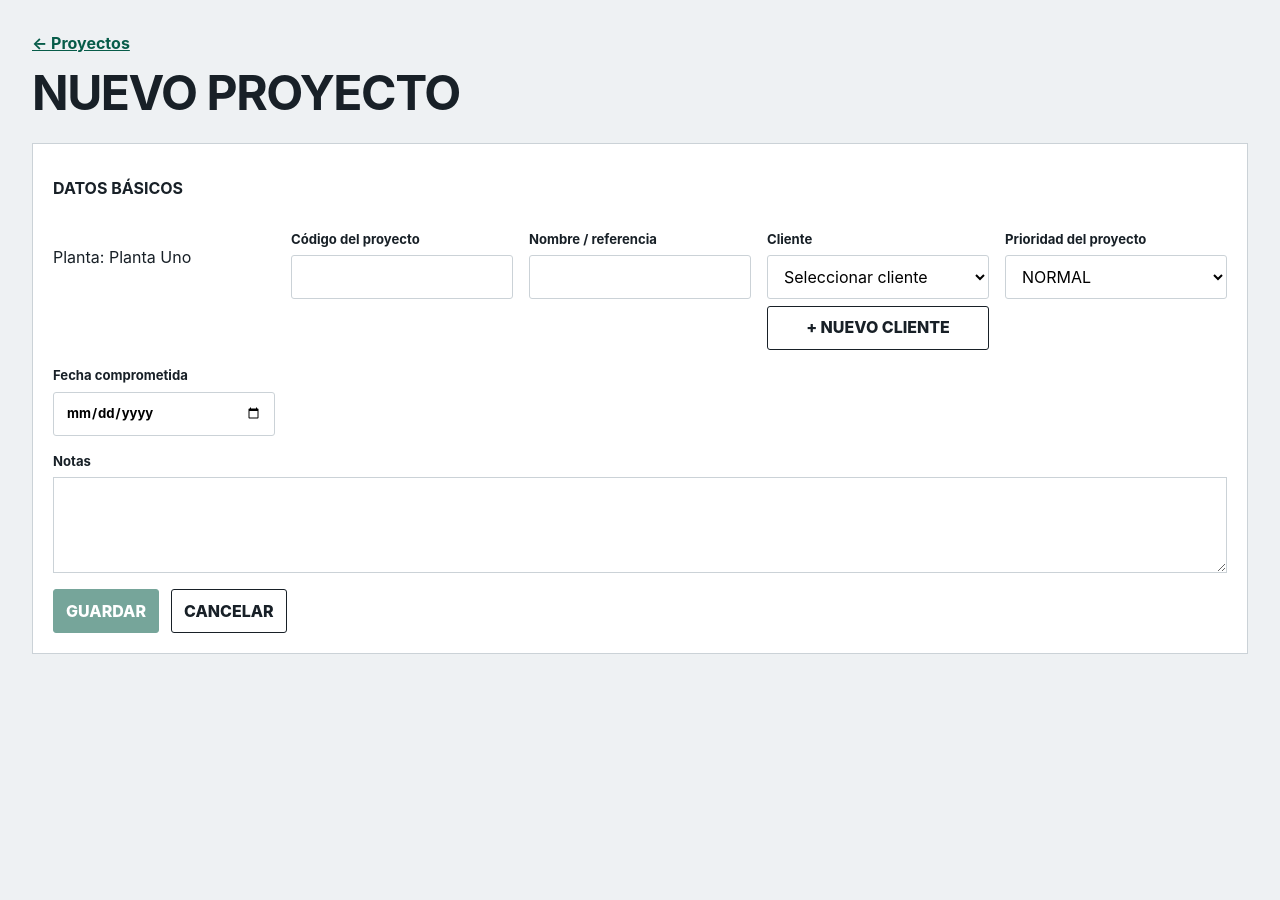
Test: error backend conserva alta e inputs
This screenshot has width=1280, height=900.
Type "P-NEW" into the field labelled "Código del proyecto" at (402, 277), box [291, 255, 513, 299]
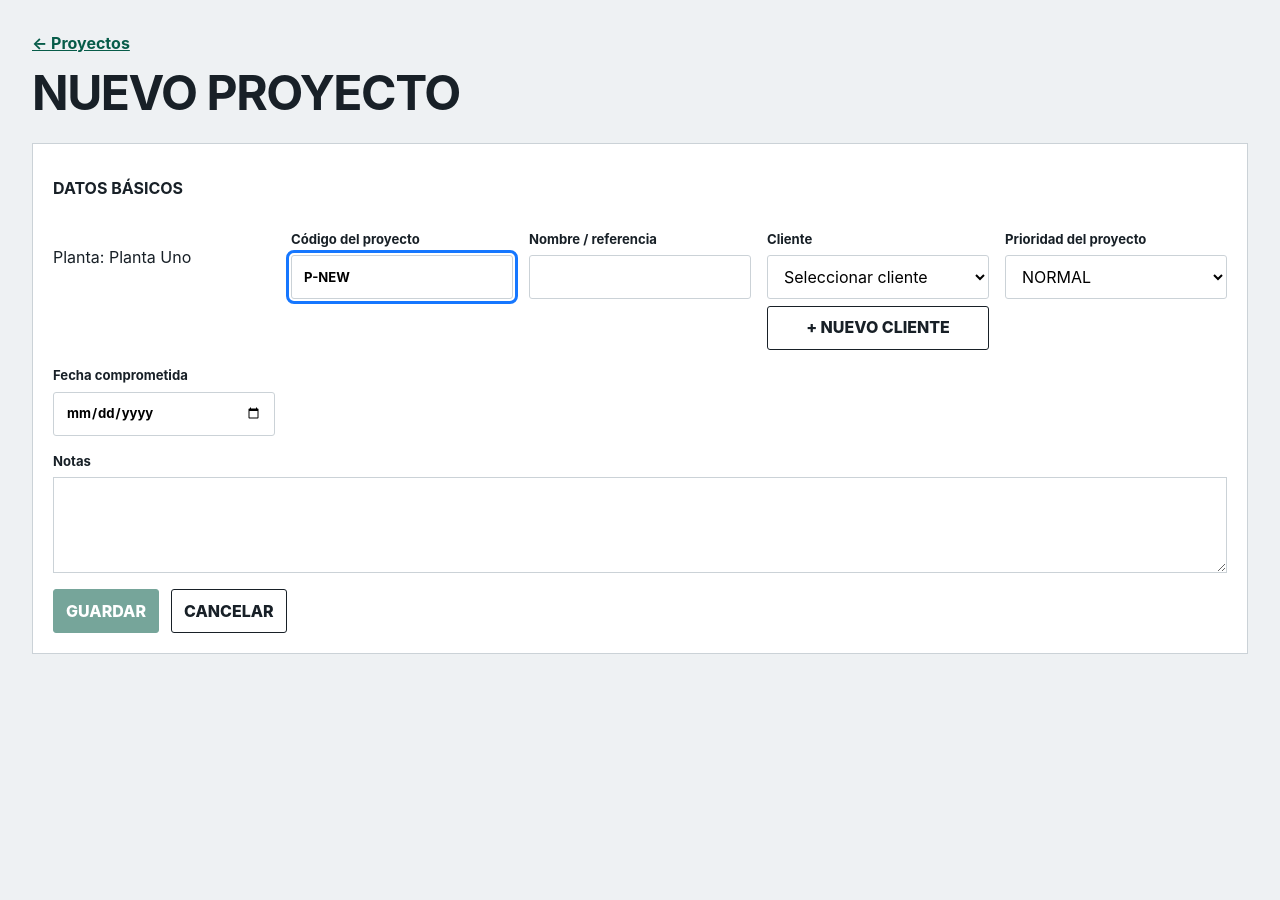
Type "Proyecto Nuevo" into the field labelled "Nombre / referencia" at (640, 277), box [529, 255, 751, 299]
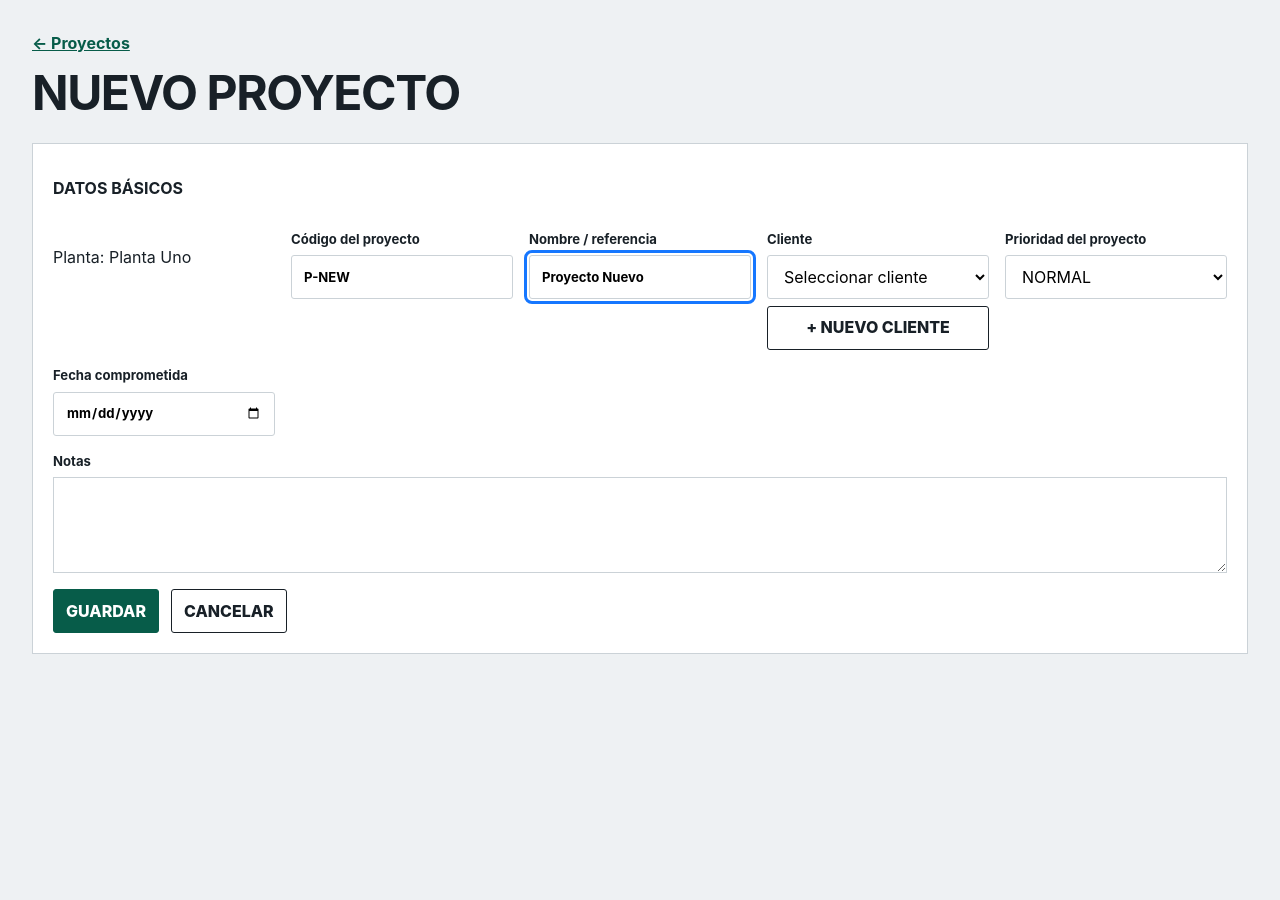
Select "Cliente Uno" in the dropdown labelled "Cliente" at (878, 277), box [767, 255, 989, 299]
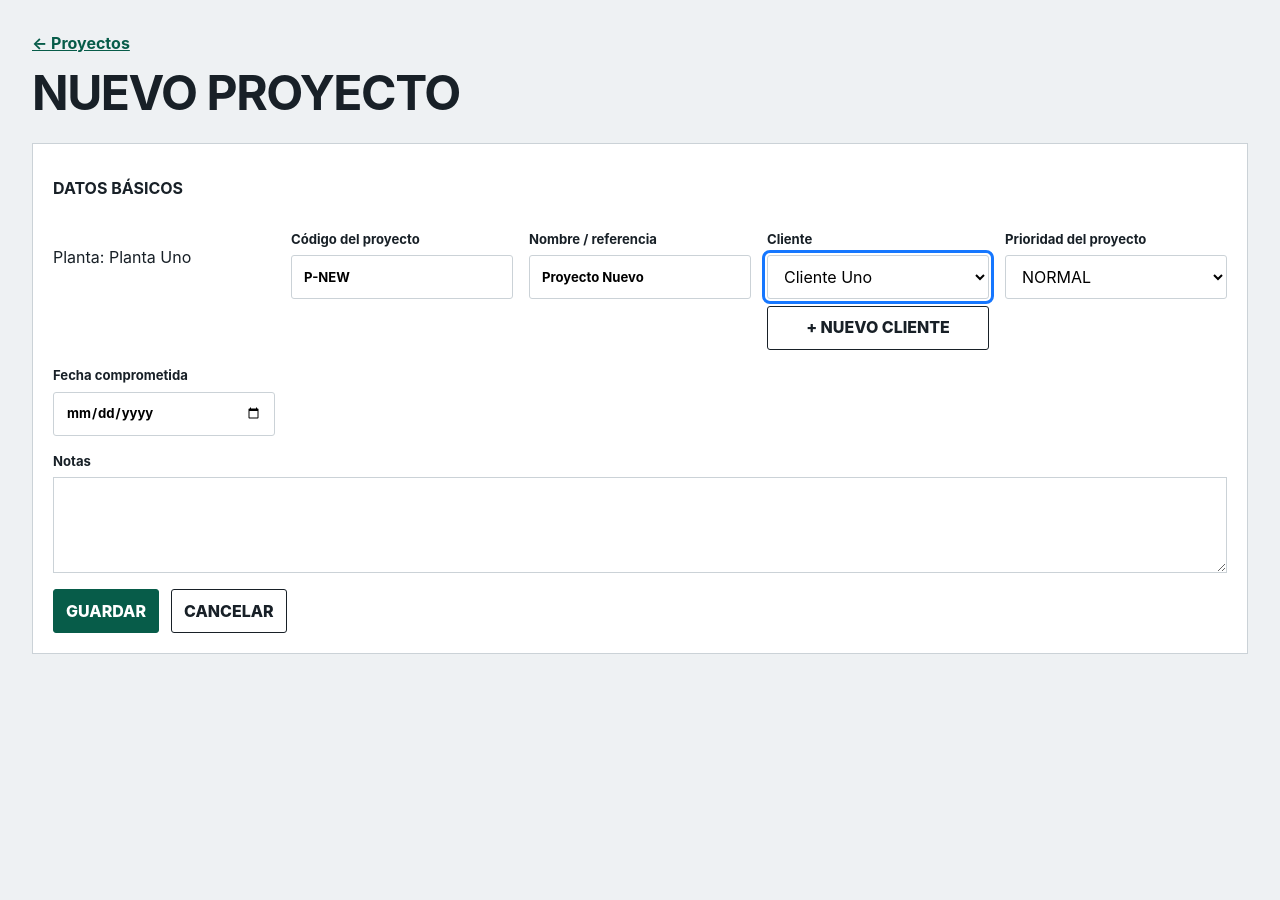
Type "2026-12-20" into the date field labelled "Fecha comprometida" at (164, 414), box [53, 392, 275, 436]
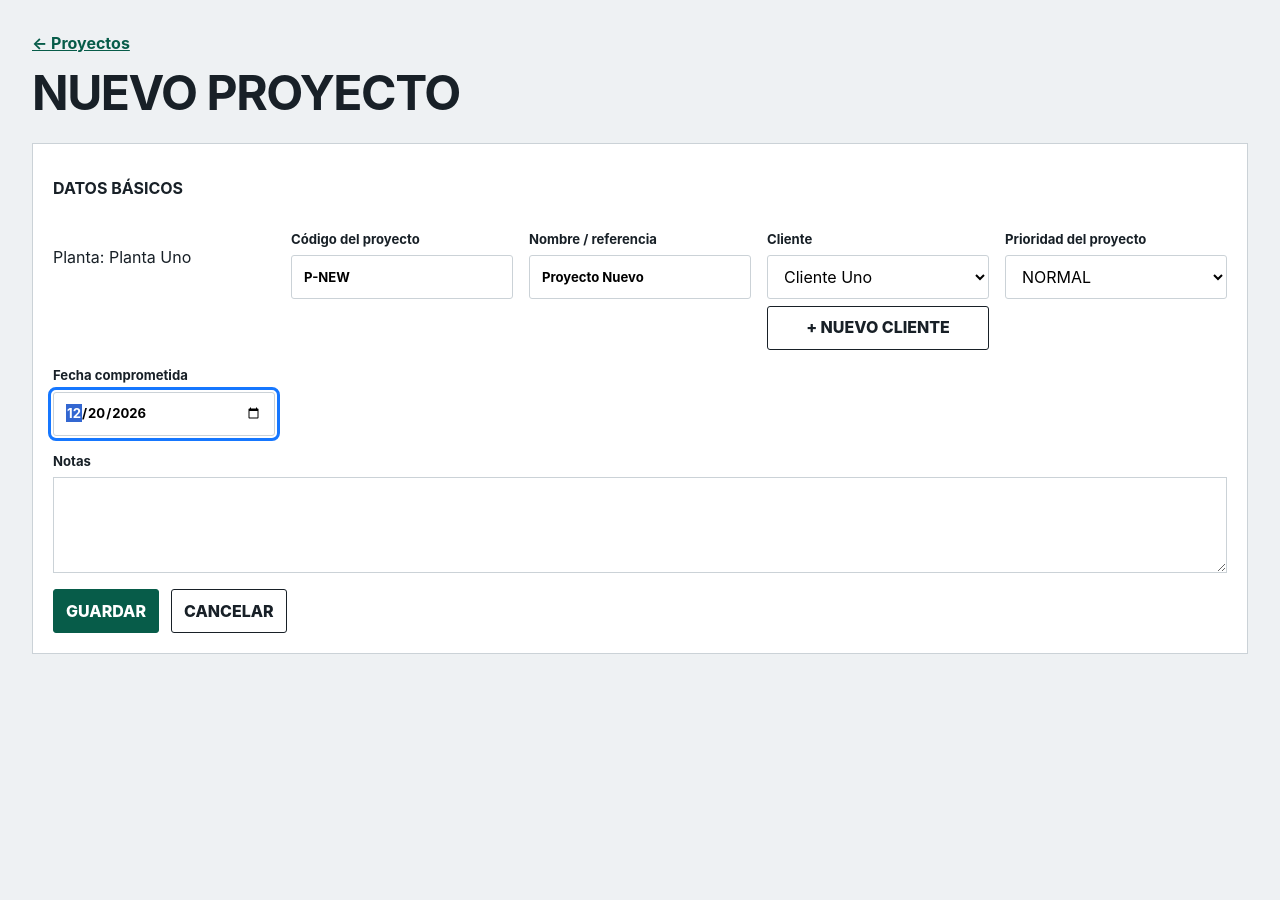
Click the button "GUARDAR" at (106, 611), box [53, 589, 159, 633]
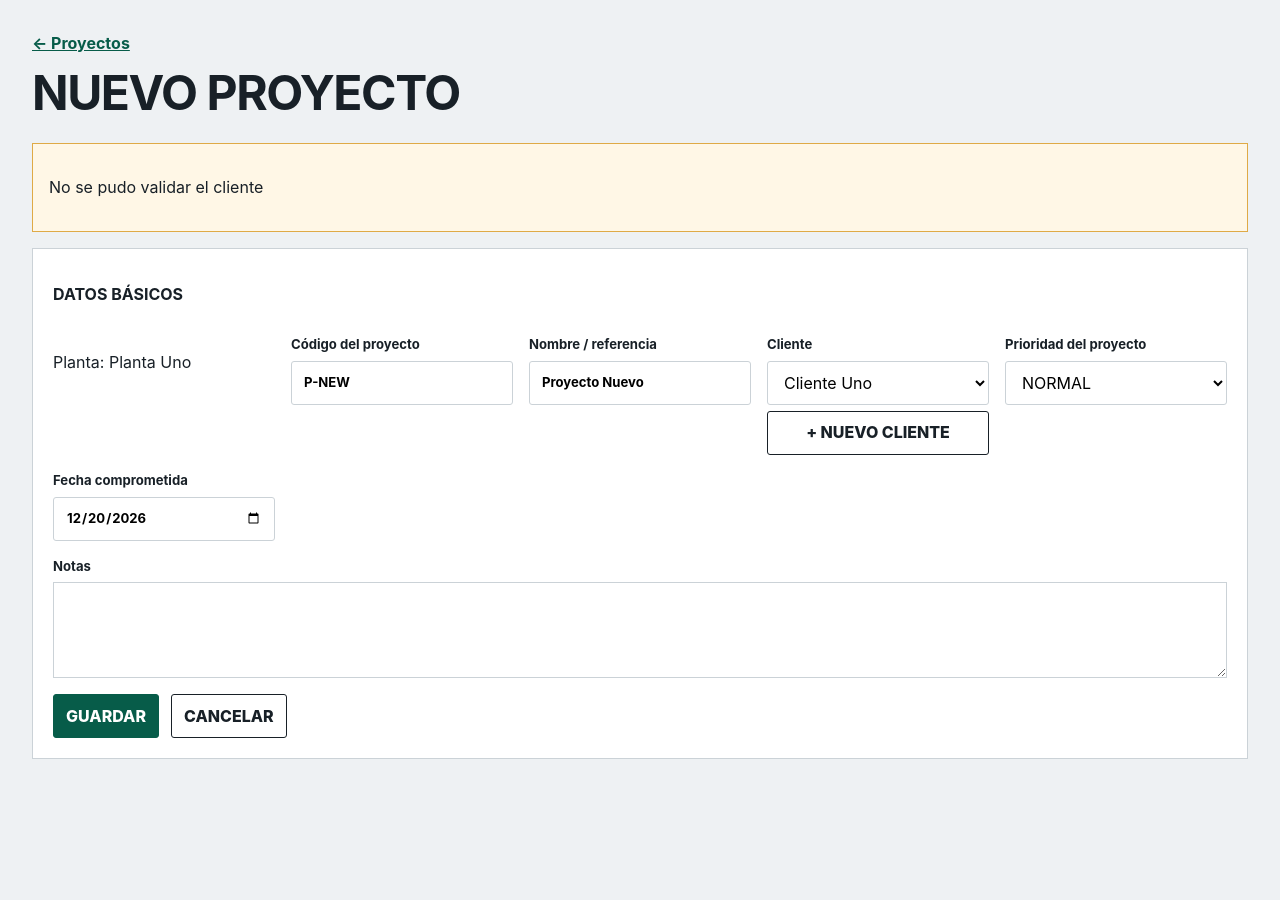
Expected: the message reads "No se pudo validar el cliente", [49, 177, 263, 197]
